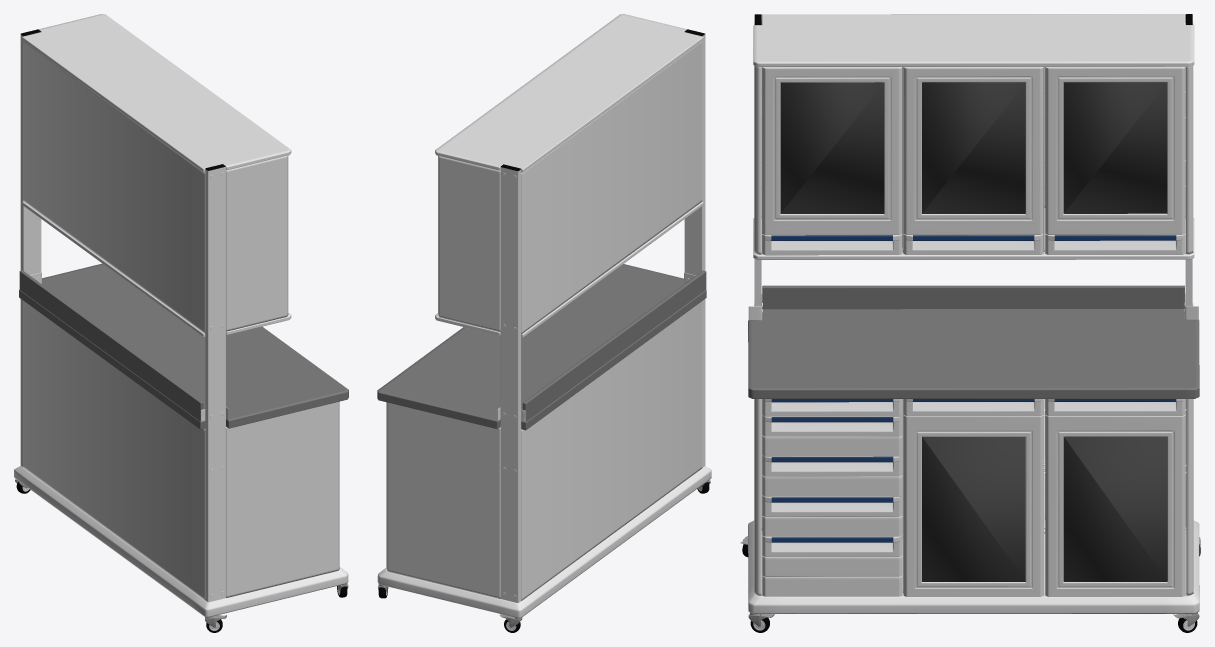
The model's file is cabinet.fbx.
The picture shows the model from 3 angles, left to right: view 1: azimuth 30°, elevation 25°; view 2: azimuth 150°, elevation 25°; view 3: azimuth 270°, elevation 25°; orthographic projection. The views are drawn at different scales.
Visible parts, largest first — view 1: Archmodels70_017_01, Archmodels70_017_08, Archmodels70_017_03; view 2: Archmodels70_017_01, Archmodels70_017_08, Archmodels70_017_03; view 3: Archmodels70_017_01, Archmodels70_017_02, Archmodels70_017_03, Archmodels70_017_08, Archmodels70_017_04.
Part boxes in pixels (x1=…): Archmodels70_017_01: x1=22, y1=41, x2=340, y2=630; Archmodels70_017_08: x1=14, y1=14, x2=348, y2=617; Archmodels70_017_03: x1=19, y1=263, x2=348, y2=429; Archmodels70_017_01: x1=386, y1=41, x2=702, y2=630; Archmodels70_017_08: x1=377, y1=14, x2=711, y2=618; Archmodels70_017_03: x1=377, y1=264, x2=706, y2=430; Archmodels70_017_01: x1=753, y1=19, x2=1194, y2=630; Archmodels70_017_02: x1=780, y1=82, x2=1167, y2=581; Archmodels70_017_03: x1=748, y1=285, x2=1199, y2=398; Archmodels70_017_08: x1=748, y1=14, x2=1199, y2=613; Archmodels70_017_04: x1=771, y1=235, x2=1176, y2=542.
Size of the model in its own units: 54.65 by 163 by 126.
